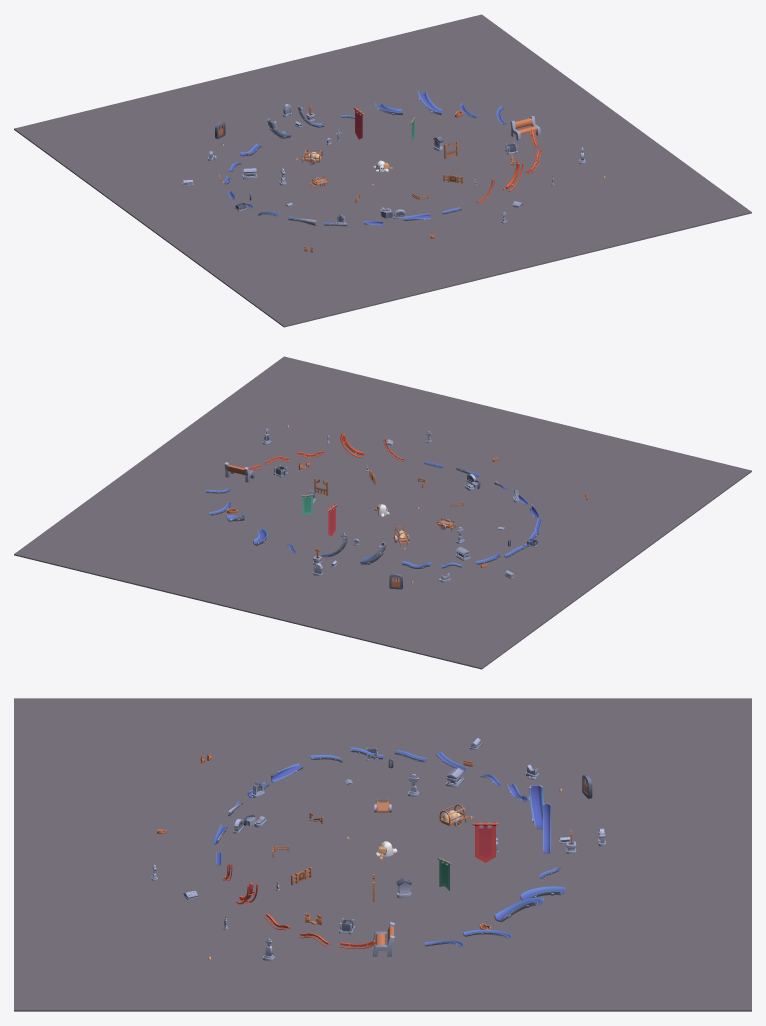
File: world.glb
3 renders of one model, top to bottom at view 1: azimuth 30°, elevation 25°; view 2: azimuth 150°, elevation 25°; view 3: azimuth 270°, elevation 25°, orthographic. The views are drawn at different scales.
Parts seen in each view (by area): view 1: Terrain; view 2: Terrain; view 3: Terrain, Booth_002_banner-red, Track_007_coaster-flume-straig.
Boxes of the visible parts, box(x1,y1,x2,y2) form: Terrain: box(14, 14, 751, 327); Terrain: box(14, 356, 751, 669); Terrain: box(14, 698, 751, 1011); Booth_002_banner-red: box(472, 822, 498, 862); Track_007_coaster-flume-straig: box(529, 784, 543, 829).
Size of the model in its own units: 180 by 13.04 by 180.
63 materials, 62 textured.
